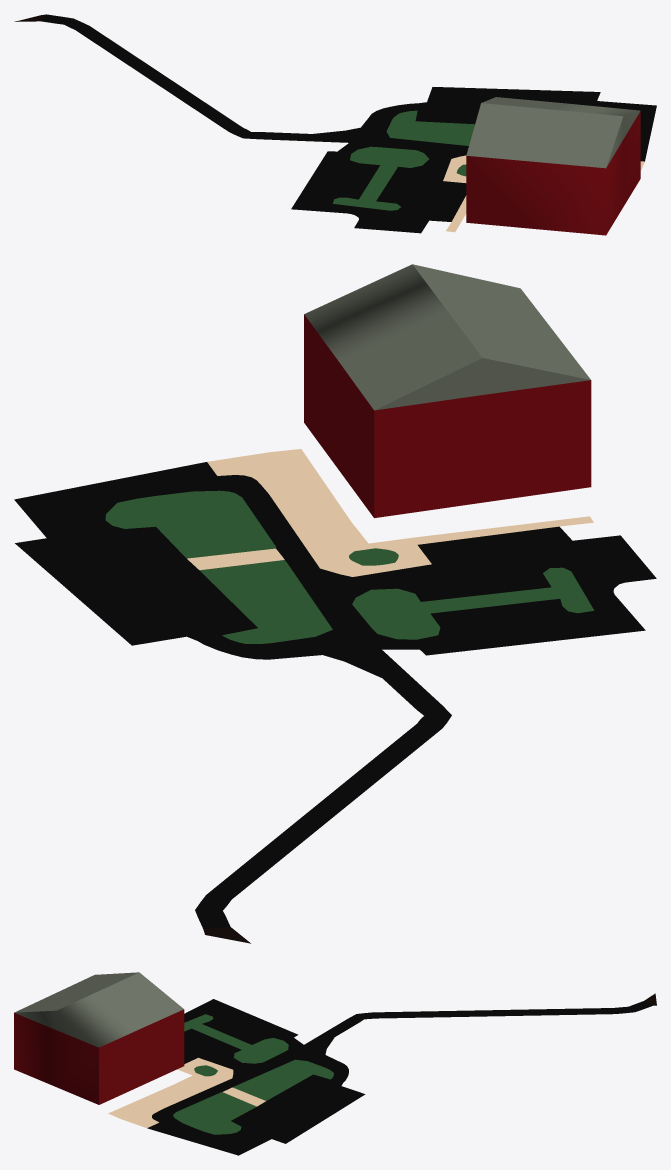
The model's file is bhslibbg.glb.
The picture shows the model from 3 angles, top to bottom: view 1: azimuth 30°, elevation 25°; view 2: azimuth 150°, elevation 25°; view 3: azimuth 270°, elevation 25°; orthographic projection. The views are drawn at different scales.
Parts seen in each view (by area): view 1: Cylinder.004; view 2: Cylinder.004; view 3: Cylinder.004.
Boxes of the visible parts, x1,y1,x2,y2 form: Cylinder.004: [14, 14, 656, 235]; Cylinder.004: [14, 264, 656, 943]; Cylinder.004: [14, 972, 656, 1155].
Bounding box in the file's own units: 0.1648 × 0.0415 × 0.2748.
